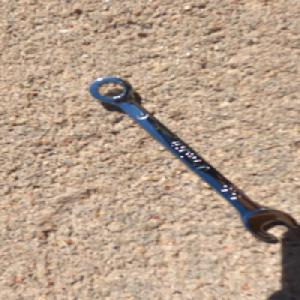Wrench: (85, 75, 298, 243)
